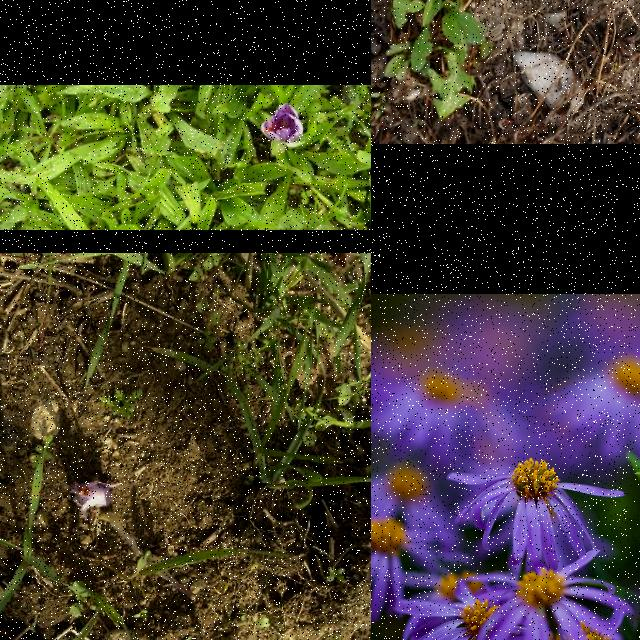flower: (71, 478, 121, 516), (261, 102, 303, 144)
